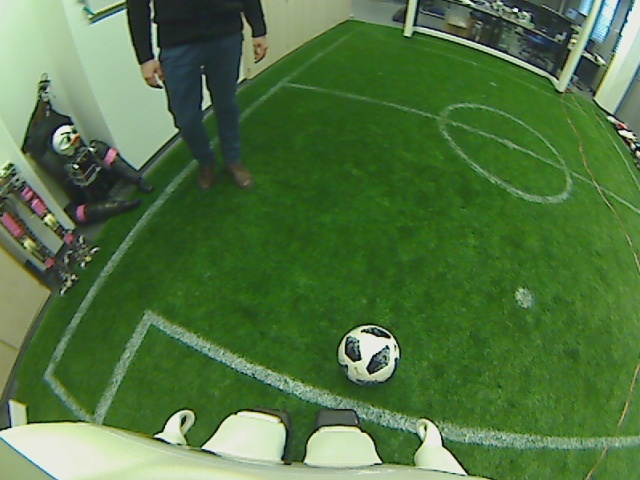ball: (335, 324, 400, 385)
